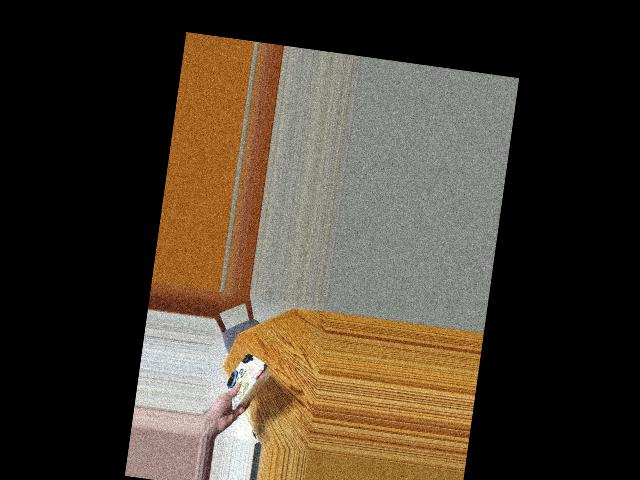cheese: (217, 352, 277, 405)
